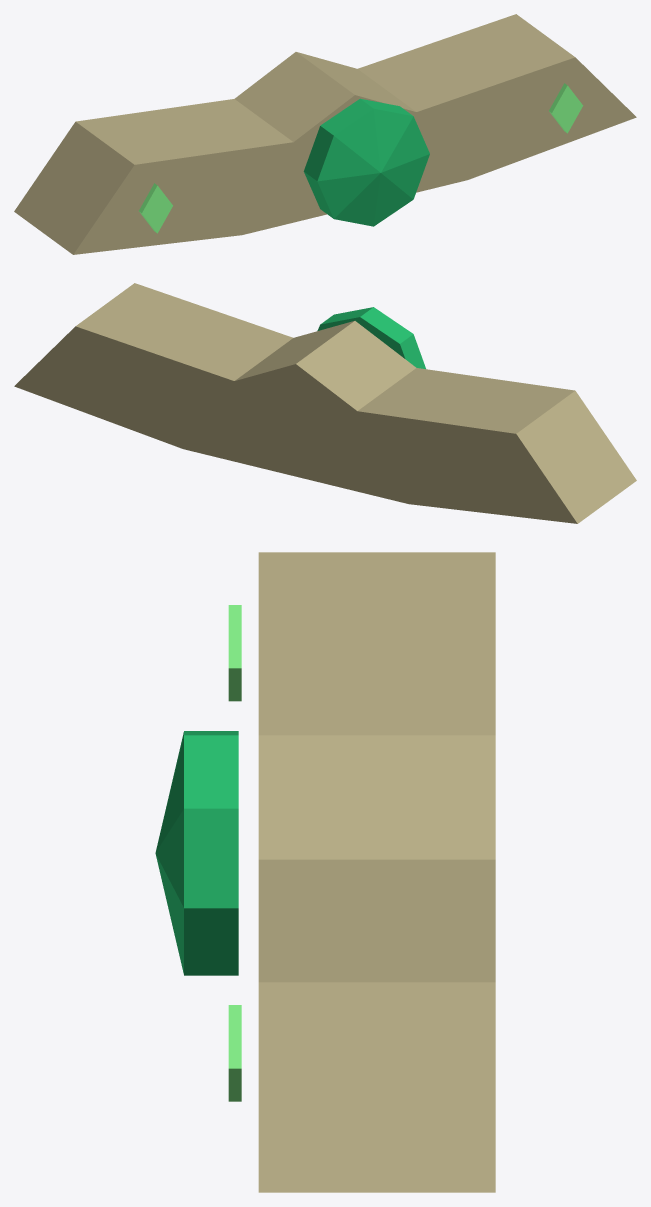
File: bar.obj
The picture shows the model from 3 angles, top to bottom: view 1: azimuth 30°, elevation 25°; view 2: azimuth 150°, elevation 25°; view 3: azimuth 270°, elevation 25°; orthographic projection. The views are drawn at different scales.
Parts seen in each view (by area): view 1: ritual_bar_edge, ritual_bar, bar_gem, bar_edge_0.4, bar_edge_-0.4; view 2: ritual_bar, ritual_bar_edge, bar_gem; view 3: ritual_bar_edge, bar_gem, bar_edge_0.4_edge, bar_edge_-0.4_edge.
Boxes of the visible parts, <box> form: ritual_bar_edge: <box>14,14,574,254</box>; ritual_bar: <box>73,57,636,254</box>; bar_gem: <box>303,98,429,226</box>; bar_edge_0.4: <box>552,85,583,133</box>; bar_edge_-0.4: <box>142,185,172,233</box>; ritual_bar: <box>14,326,577,523</box>; ritual_bar_edge: <box>76,283,636,523</box>; bar_gem: <box>317,307,425,368</box>; ritual_bar_edge: <box>258,552,495,1192</box>; bar_gem: <box>155,731,238,975</box>; bar_edge_0.4_edge: <box>228,1005,241,1101</box>; bar_edge_-0.4_edge: <box>228,605,241,701</box>.
Bounding box in the file's own units: 1.1 × 0.22 × 0.2873.
